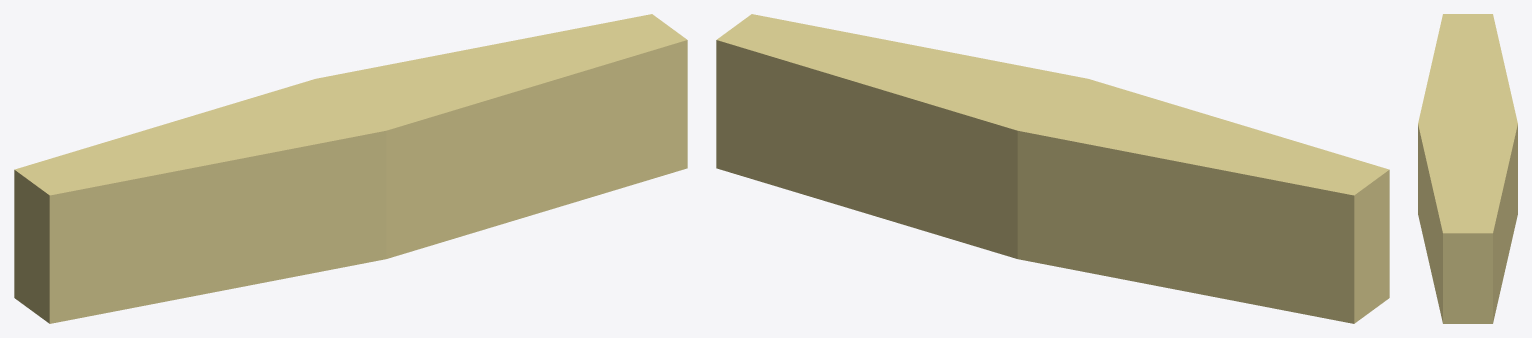
File: Wall.fbx
3 renders of one model, left to right at view 1: azimuth 30°, elevation 25°; view 2: azimuth 150°, elevation 25°; view 3: azimuth 270°, elevation 25°, orthographic. The views are drawn at different scales.
Visible parts, largest first — view 1: Cylinder; view 2: Cylinder; view 3: Cylinder.
Boxes of the visible parts, x1=… form: Cylinder: x1=14, y1=14, x2=687, y2=323; Cylinder: x1=716, y1=14, x2=1389, y2=323; Cylinder: x1=1418, y1=14, x2=1517, y2=323.
Size of the model in its own units: 10.39 by 2 by 2.
